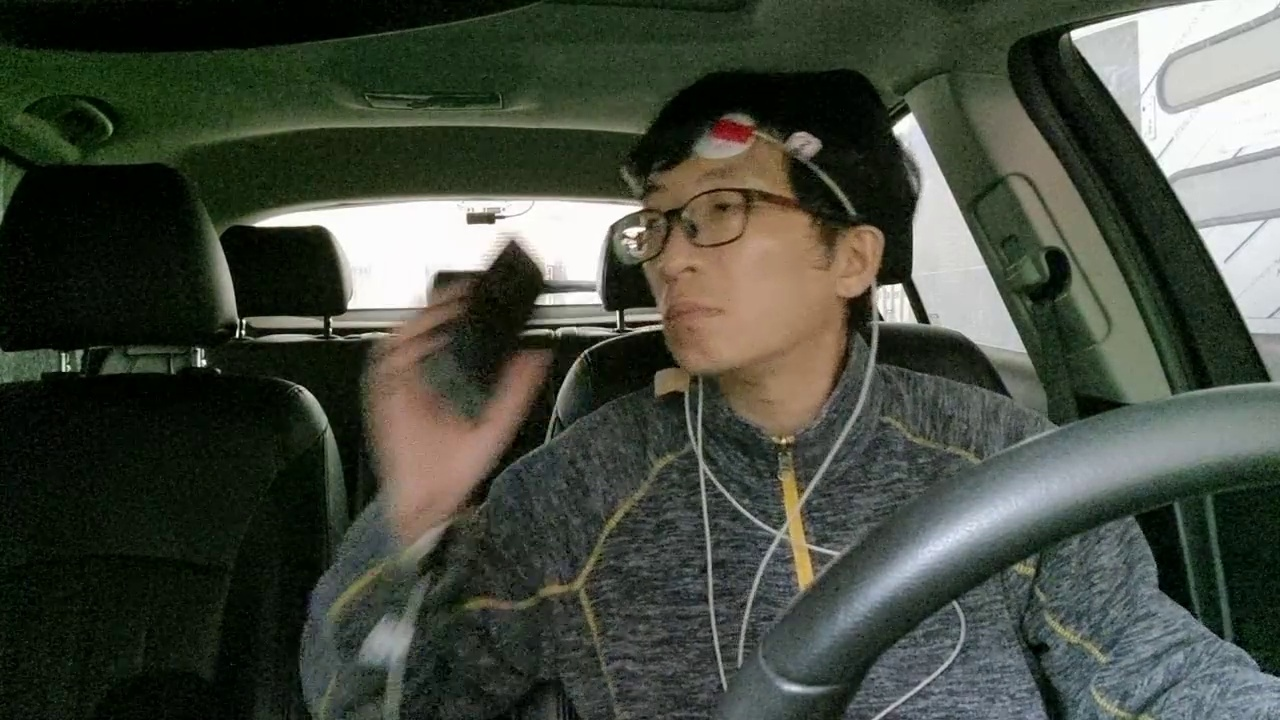phone: (367, 193, 563, 480)
